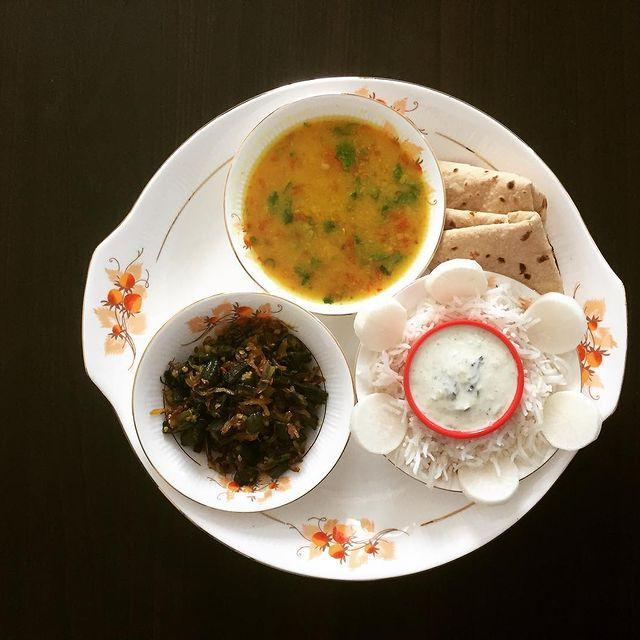Roti: (426, 158, 581, 282)
